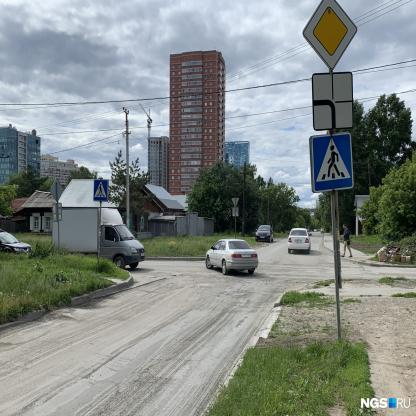road_sign: (300, 0, 360, 73), (309, 68, 362, 133), (306, 129, 358, 195), (94, 178, 108, 202)
